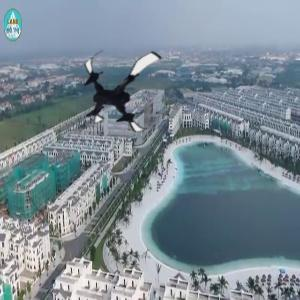drone: (76, 41, 175, 140)
